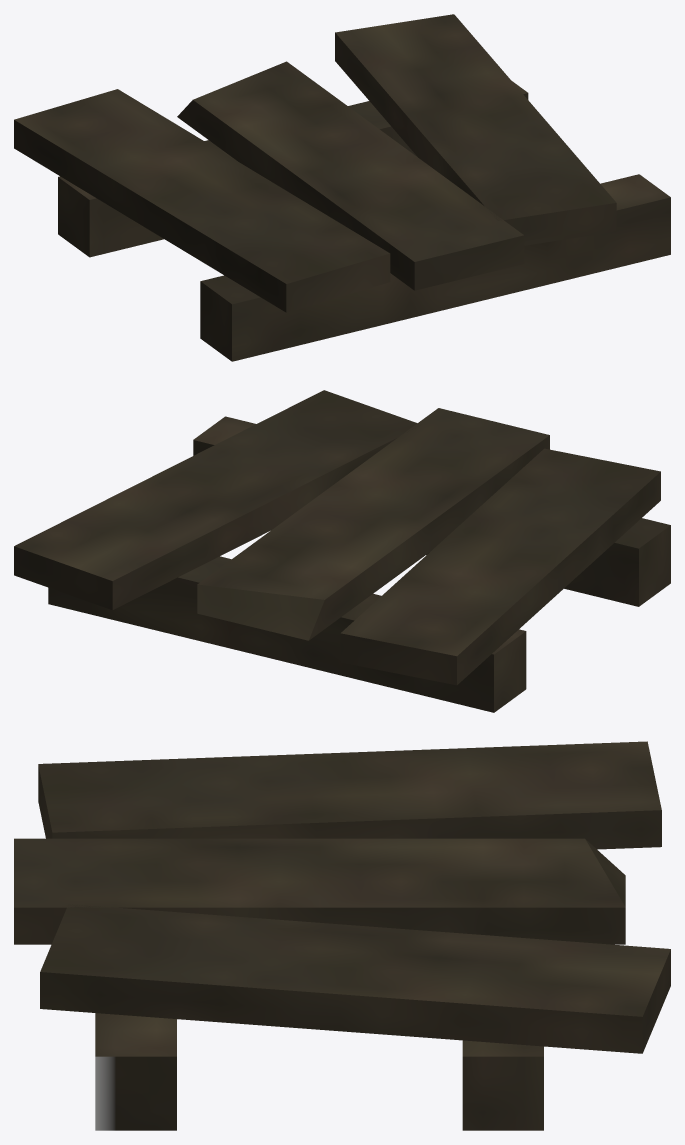
The model's file is wooden_catwalk.obj.
3 views of the same model, one above another, from view 1: azimuth 30°, elevation 25°; view 2: azimuth 150°, elevation 25°; view 3: azimuth 270°, elevation 25° (orthographic). The views are drawn at different scales.
Visible parts, largest first — view 1: cube; view 2: cube; view 3: cube.
Boxes of the visible parts, x1=… form: cube: x1=14, y1=14, x2=670, y2=361; cube: x1=14, y1=390, x2=670, y2=712; cube: x1=14, y1=741, x2=670, y2=1130.
Bounding box in the file's own units: 1.01 × 0.1875 × 1.01.
